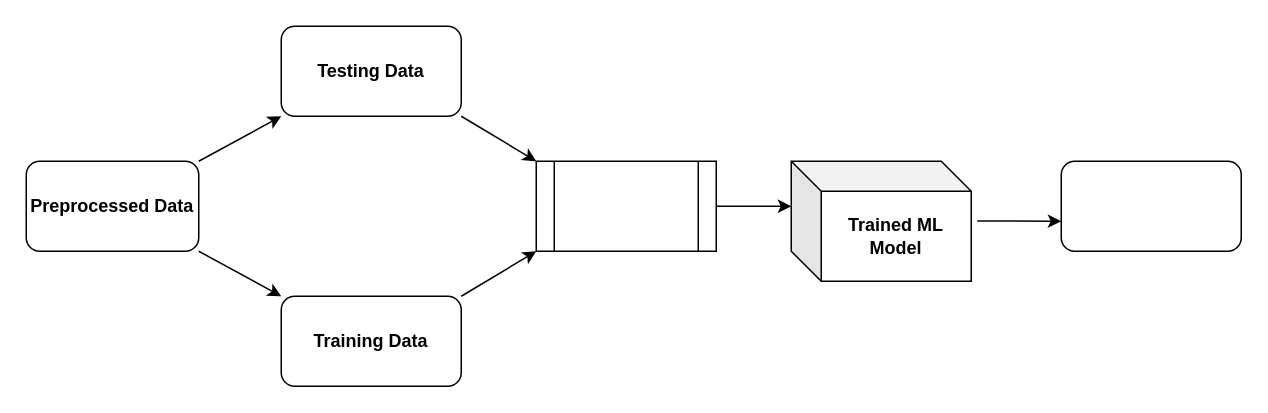
This 1268x413 diagram has some shape labels left out. Each missing label, with the box of its shape:
Apply Machine Learning Model: (535, 160, 716, 251)
Prediction: (1060, 160, 1241, 251)
